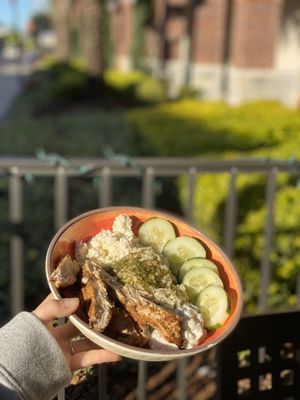sushi: (64, 212, 242, 365)
